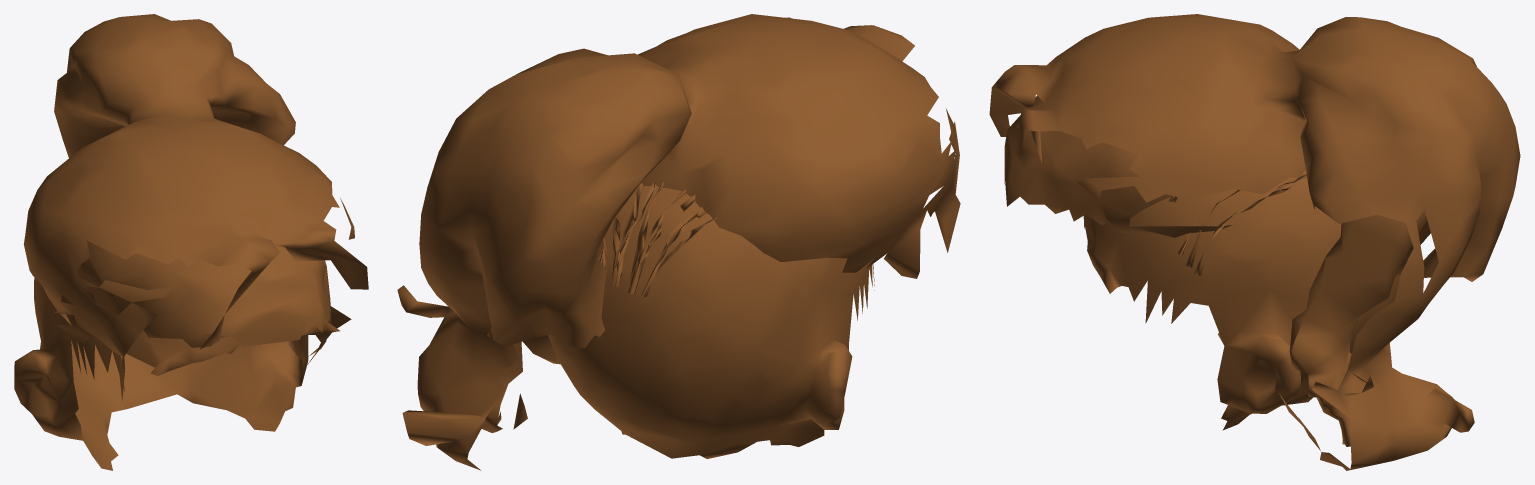
Rendered from high-ponytail.glb.
3 renders of one model, left to right at view 1: azimuth 30°, elevation 25°; view 2: azimuth 150°, elevation 25°; view 3: azimuth 270°, elevation 25°, orthographic. The views are drawn at different scales.
Visible parts, largest first — view 1: Hair, HairScalp; view 2: Hair, HairScalp, HairPulledRootStrands; view 3: Hair, HairScalp, HairPulledRootStrands.
Boxes of the visible parts, bbox=[...] form: Hair: bbox=[23, 14, 368, 400]; HairScalp: bbox=[14, 261, 339, 470]; Hair: bbox=[397, 14, 960, 470]; HairScalp: bbox=[522, 186, 874, 458]; HairPulledRootStrands: bbox=[598, 181, 718, 296]; Hair: bbox=[989, 14, 1520, 470]; HairScalp: bbox=[1083, 170, 1400, 430]; HairPulledRootStrands: bbox=[1169, 174, 1307, 275].
Size of the model in its own units: 0.6052 by 0.561 by 0.7212.
